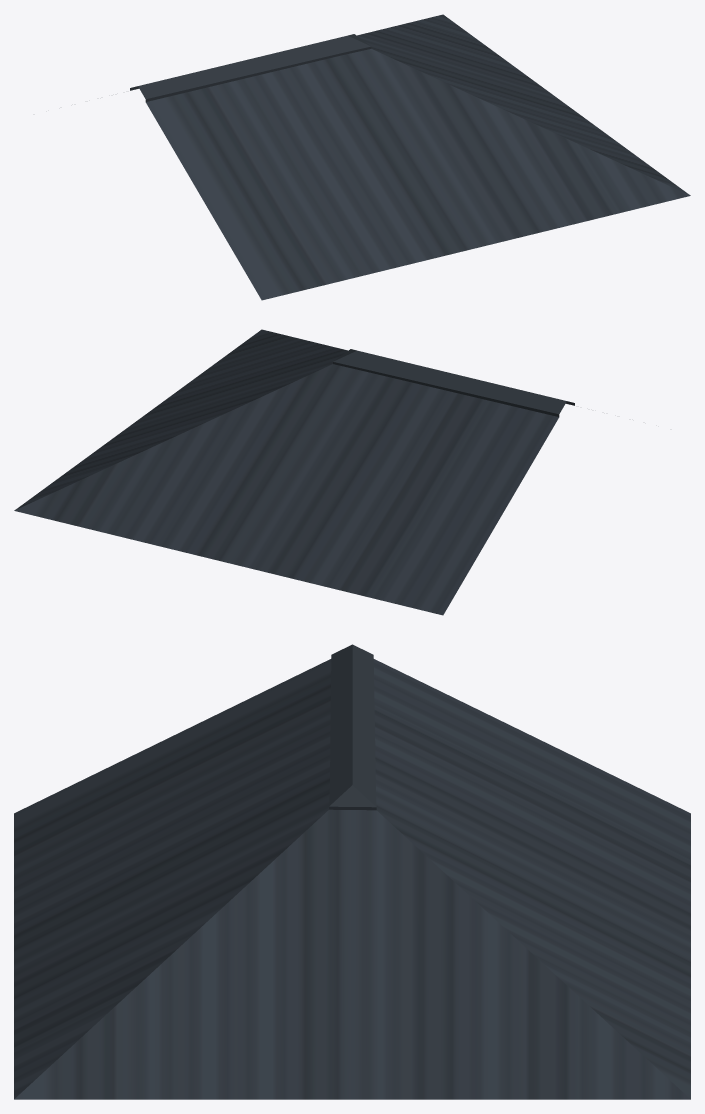
The model's file is SM_Bld_House_Roof_Angled_Cap_Short_02.fbx.
3 renders of one model, top to bottom at view 1: azimuth 30°, elevation 25°; view 2: azimuth 150°, elevation 25°; view 3: azimuth 270°, elevation 25°, orthographic. The views are drawn at different scales.
Parts seen in each view (by area): view 1: SM_Bld_House_Roof_Angled_Cap_Short_02; view 2: SM_Bld_House_Roof_Angled_Cap_Short_02; view 3: SM_Bld_House_Roof_Angled_Cap_Short_02.
Boxes of the visible parts, <box> form: SM_Bld_House_Roof_Angled_Cap_Short_02: <box>130,14,690,300</box>; SM_Bld_House_Roof_Angled_Cap_Short_02: <box>14,329,574,615</box>; SM_Bld_House_Roof_Angled_Cap_Short_02: <box>14,644,690,1099</box>.
Bounding box in the file's own units: 250 × 68.86 × 250.
